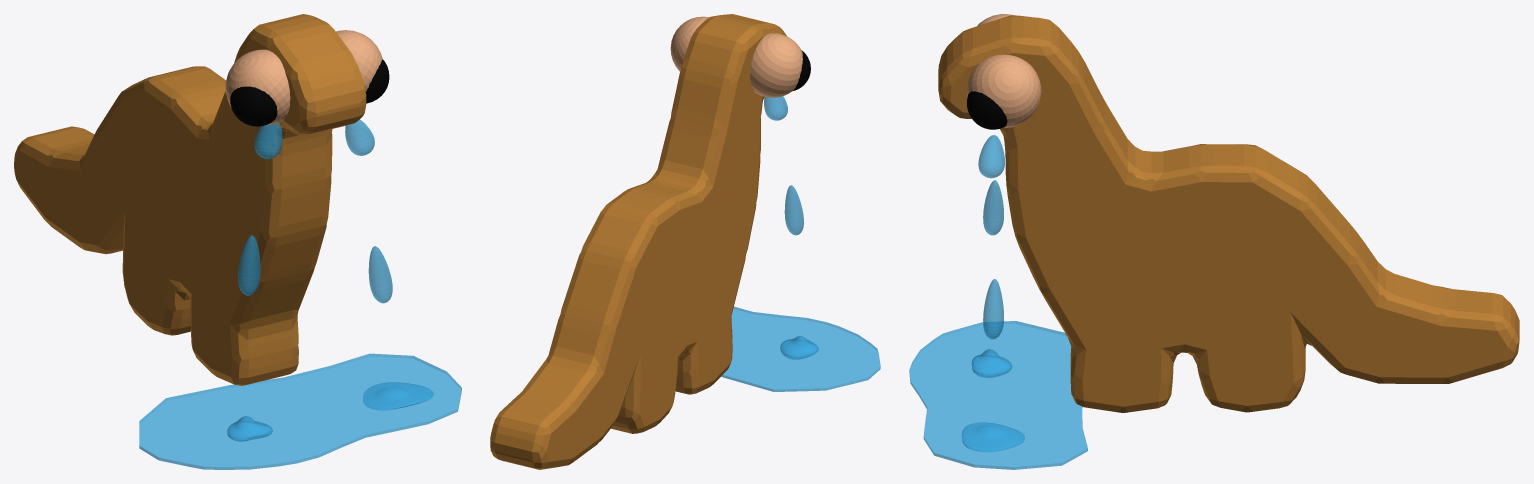
Rendered from dino_nuggie_V2.glb.
The picture shows the model from 3 angles, left to right: view 1: azimuth 30°, elevation 25°; view 2: azimuth 150°, elevation 25°; view 3: azimuth 270°, elevation 25°; orthographic projection. The views are drawn at different scales.
Visible parts, largest first — view 1: Plane, Plane.001, Sphere.002, Sphere.010, Sphere.003, Sphere.001, Sphere.007, Sphere.009, Sphere.006, Sphere.005, Sphere.008, Sphere.004; view 2: Plane, Plane.001, Sphere.002, Sphere.001, Sphere.007, Sphere.008, Sphere.006; view 3: Plane, Plane.001, Sphere.001, Sphere.010, Sphere.004, Sphere.009, Sphere.007, Sphere.005, Sphere.008.
Boxes of the visible parts, bbox=[...] form: Plane: bbox=[14, 14, 366, 385]; Plane.001: bbox=[139, 353, 461, 469]; Sphere.002: bbox=[225, 49, 290, 125]; Sphere.010: bbox=[363, 382, 433, 410]; Sphere.003: bbox=[230, 86, 277, 126]; Sphere.001: bbox=[336, 30, 382, 91]; Sphere.007: bbox=[238, 235, 260, 295]; Sphere.009: bbox=[368, 246, 392, 303]; Sphere.006: bbox=[254, 122, 282, 158]; Sphere.005: bbox=[345, 119, 374, 155]; Sphere.008: bbox=[227, 416, 272, 441]; Sphere.004: bbox=[365, 59, 389, 103]; Plane: bbox=[490, 14, 787, 469]; Plane.001: bbox=[721, 306, 880, 391]; Sphere.002: bbox=[750, 33, 802, 97]; Sphere.001: bbox=[670, 16, 708, 71]; Sphere.007: bbox=[784, 185, 803, 235]; Sphere.008: bbox=[780, 336, 818, 359]; Sphere.006: bbox=[764, 96, 787, 120]; Plane: bbox=[938, 15, 1519, 412]; Plane.001: bbox=[909, 321, 1087, 469]; Sphere.001: bbox=[967, 54, 1041, 128]; Sphere.010: bbox=[961, 422, 1024, 451]; Sphere.004: bbox=[967, 91, 1007, 129]; Sphere.009: bbox=[983, 279, 1003, 339]; Sphere.007: bbox=[983, 180, 1003, 235]; Sphere.005: bbox=[978, 135, 1004, 178]; Sphere.008: bbox=[971, 349, 1012, 377].
Bounding box in the file's own units: 0.9749 × 1.17 × 1.72.
